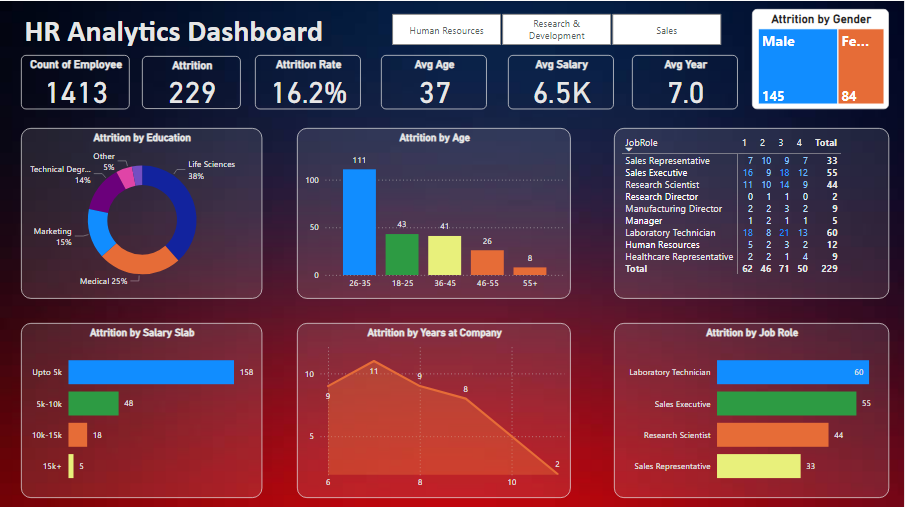

The dashboard page shown, as its layout file describes it:
{"tool":"powerbi","page":{"name":"Page 1","canvas":[1280,720],"ordinal":0},"visuals":[{"type":"card","title":"Count of Employee","fields":{"Values":["CountNonNull(HR_Analytics.EmpID)"]},"box":[29.8,76.5,154.5,76.5],"z":0},{"type":"card","title":"Attrition","fields":{"Values":["Sum(HR_Analytics.Attrition count)"]},"box":[201.3,78,140.3,75.1],"z":1000},{"type":"card","title":"Attrition Rate","fields":{"Values":["HR_Analytics.Attrition Rate"]},"box":[361.4,76.5,150.2,76.5],"z":2000},{"type":"card","title":"Avg Age","fields":{"Values":["Avg(HR_Analytics.Age)"]},"box":[540,76.5,150.2,76.5],"z":3000},{"type":"card","title":"Avg Salary","fields":{"Values":["Avg(HR_Analytics.MonthlyIncome)"]},"box":[720,76.5,150.2,76.5],"z":4000},{"type":"card","title":"Avg Year","fields":{"Values":["Avg(HR_Analytics.YearsAtCompany)"]},"box":[895.7,76.5,150.2,76.5],"z":5000},{"type":"donutChart","title":"Attrition by Education","fields":{"Category":["HR_Analytics.EducationField"],"Y":["Sum(HR_Analytics.Attrition count)"]},"box":[29.8,180,341.6,242.4],"z":6000},{"type":"columnChart","title":"Attrition by Age","fields":{"Category":["HR_Analytics.AgeGroup"],"Y":["Sum(HR_Analytics.Attrition count)"]},"box":[420.9,180,388.3,242.4],"z":7000},{"type":"pivotTable","fields":{"Rows":["HR_Analytics.JobRole"],"Columns":["HR_Analytics.JobSatisfaction"],"Values":["Sum(HR_Analytics.Attrition count)"]},"box":[870.2,180,389.8,242.4],"z":8000},{"type":"barChart","title":"Attrition by Salary Slab","fields":{"Category":["HR_Analytics.SalarySlab"],"Y":["Sum(HR_Analytics.Attrition count)"]},"box":[29.8,456.4,341.6,248],"z":9000},{"type":"barChart","title":"Attrition by Job Role","fields":{"Category":["HR_Analytics.JobRole"],"Y":["Sum(HR_Analytics.Attrition count)"]},"box":[870.2,456.4,389.8,248],"z":10000},{"type":"areaChart","title":"Attrition by Years at Company","fields":{"Category":["HR_Analytics.YearsAtCompany"],"Y":["Sum(HR_Analytics.Attrition count)"]},"box":[420.9,456.4,388.3,248],"z":11000},{"type":"treemap","title":"Attrition by Gender","fields":{"Group":["HR_Analytics.Gender"],"Values":["Sum(HR_Analytics.Attrition count)"]},"box":[1065.8,11.3,194.2,141.7],"z":12000},{"type":"slicer","fields":{"Values":["HR_Analytics.Department"]},"box":[530.1,11.3,515.9,55.3],"z":13000},{"type":"textbox","box":[29.8,11.3,481.9,66.6],"z":14000}]}

Visuals, with their boxes in screenshot pixels (x1, y1, x2, y2), scaled from the page's 1280x720 canvas onto the 905x507 screenshot:
"Count of Employee" card: box(21, 54, 130, 108)
"Attrition" card: box(142, 55, 242, 108)
"Attrition Rate" card: box(256, 54, 362, 108)
"Avg Age" card: box(382, 54, 488, 108)
"Avg Salary" card: box(509, 54, 615, 108)
"Avg Year" card: box(633, 54, 739, 108)
"Attrition by Education" donutChart: box(21, 127, 263, 297)
"Attrition by Age" columnChart: box(298, 127, 572, 297)
pivotTable - HR_Analytics.JobRole x HR_Analytics.JobSatisfaction: box(615, 127, 891, 297)
"Attrition by Salary Slab" barChart: box(21, 321, 263, 496)
"Attrition by Job Role" barChart: box(615, 321, 891, 496)
"Attrition by Years at Company" areaChart: box(298, 321, 572, 496)
"Attrition by Gender" treemap: box(754, 8, 891, 108)
slicer - HR_Analytics.Department: box(375, 8, 740, 47)
textbox: box(21, 8, 362, 55)
